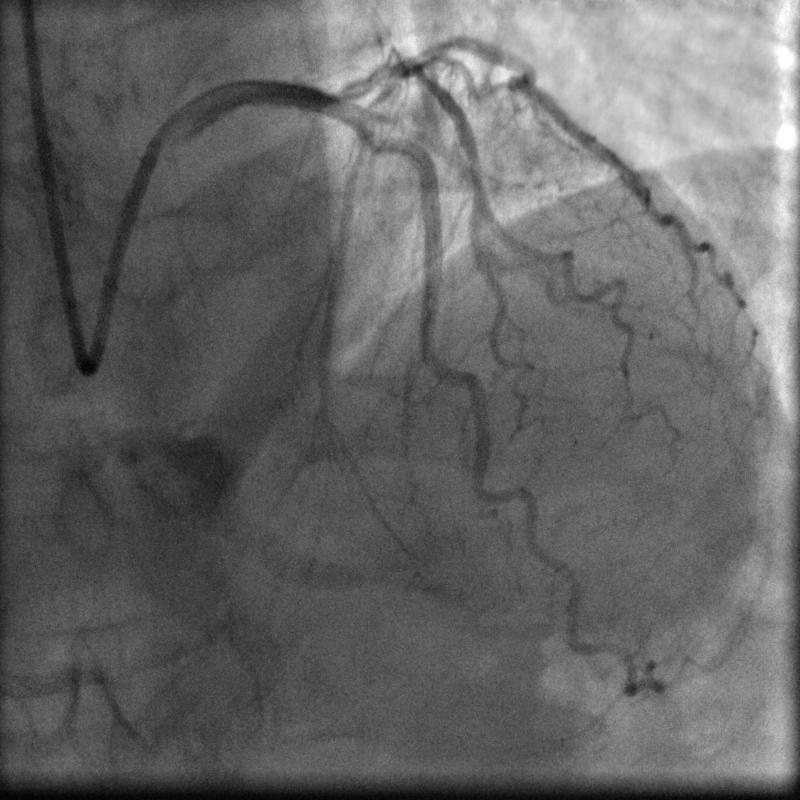Stenosis: (323, 61, 379, 102)
